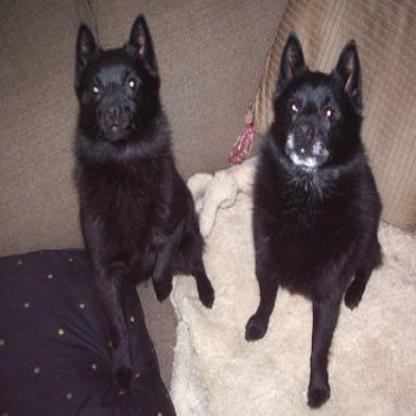schipperke: (70, 11, 215, 392), (241, 27, 377, 410)
